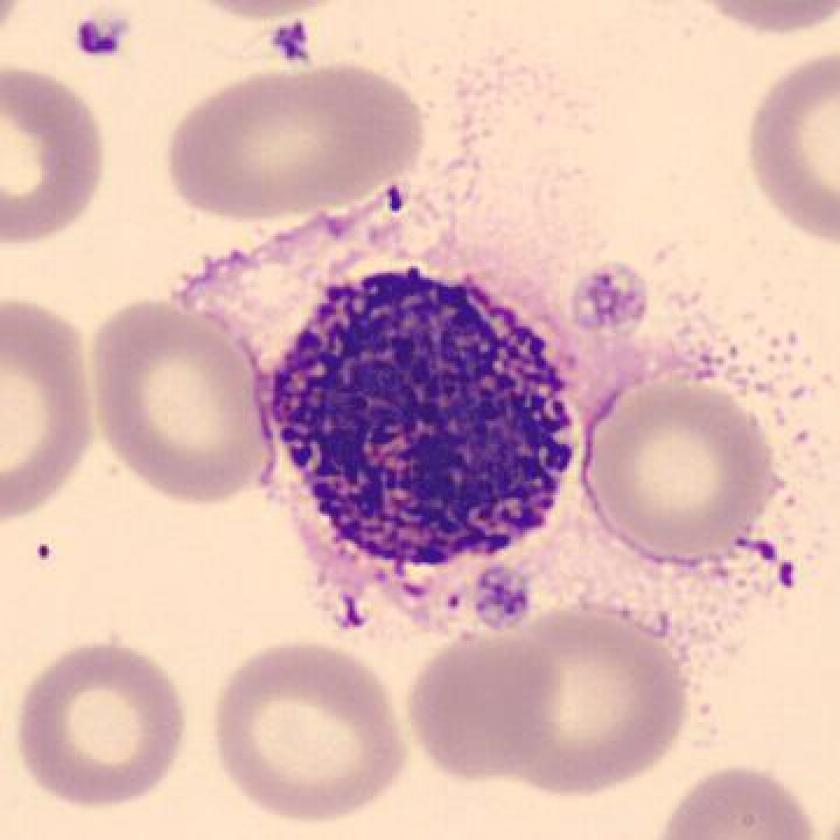basophil: (272, 256, 580, 577)
